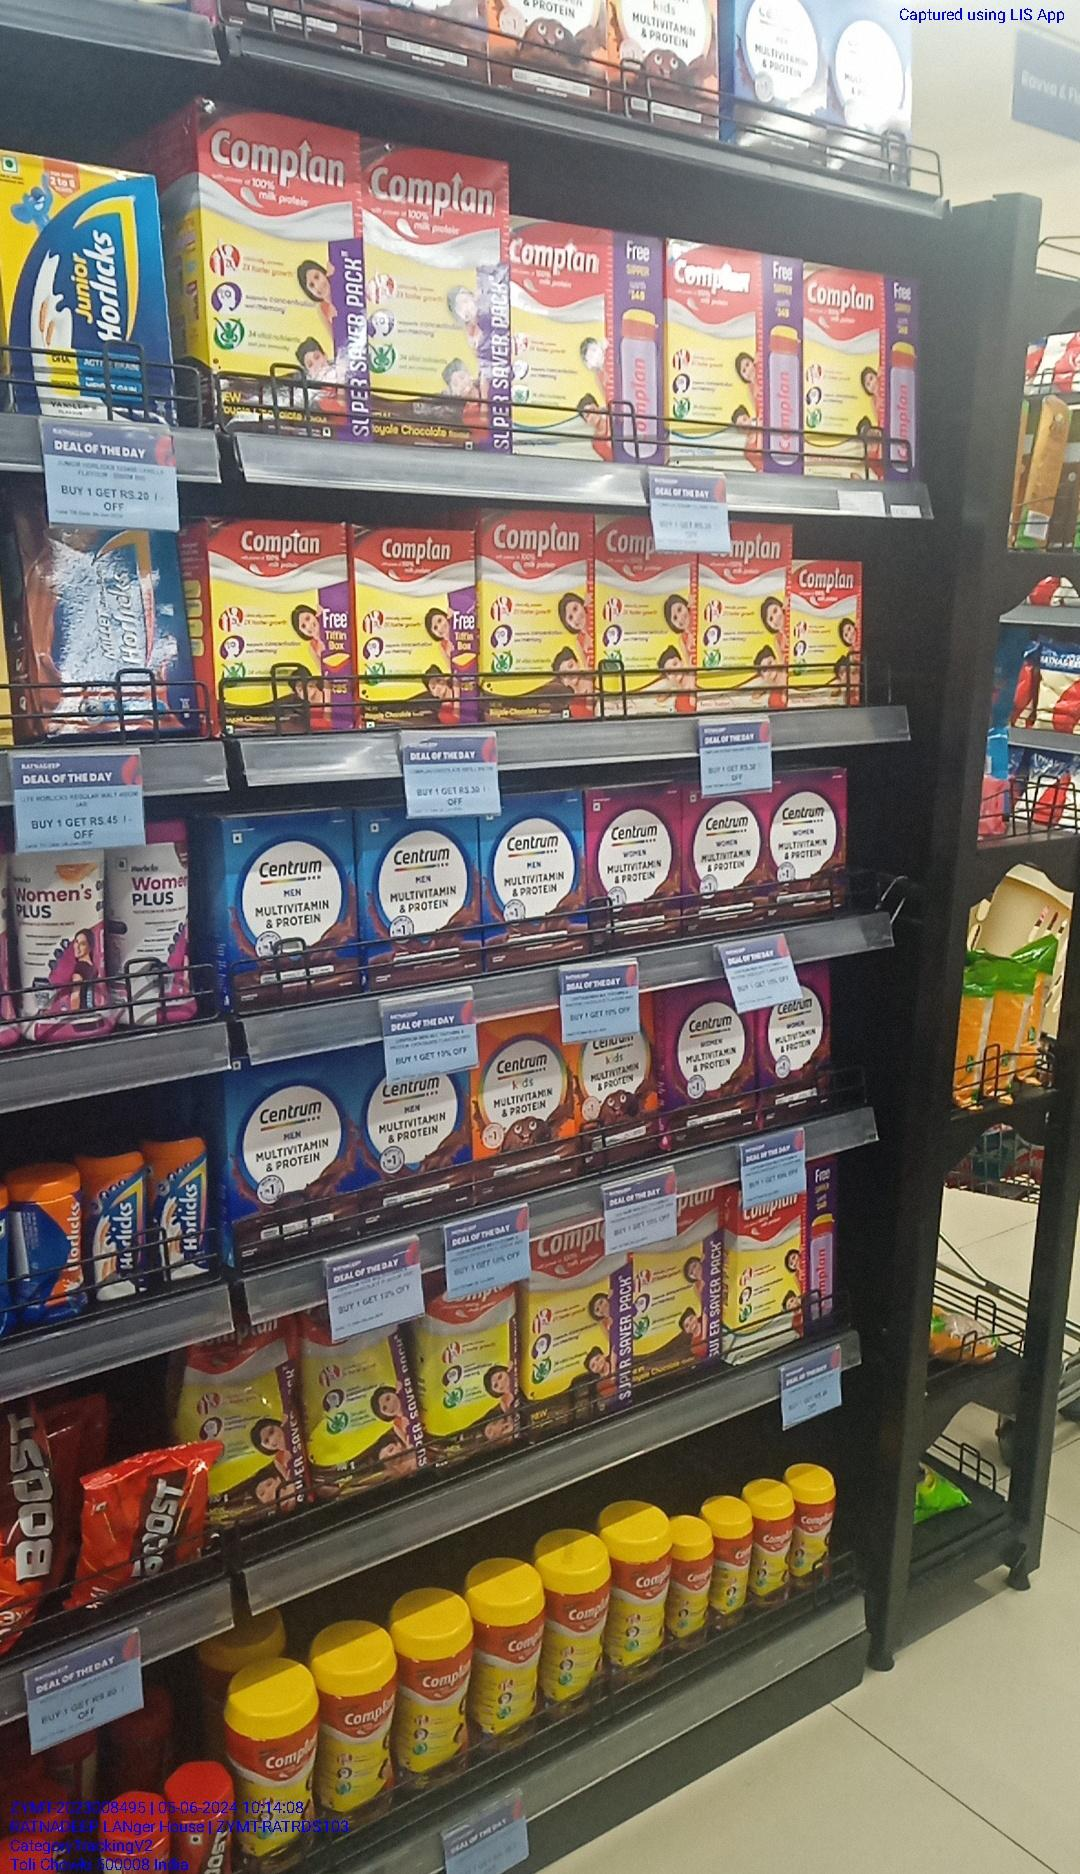COMPLAN_CHOCOLATE_200_GMS_JAR: (794, 1475, 837, 1588), (675, 1519, 712, 1641), (757, 1481, 790, 1606), (714, 1512, 752, 1619)
COMPLAN_CHOCOLATE_500_GMS_JAR: (236, 1662, 321, 1865), (326, 1628, 399, 1815), (543, 1541, 614, 1698), (408, 1609, 472, 1776), (476, 1574, 539, 1735), (623, 1517, 672, 1665)
COMPLAN_KESAR_BADAM_200_GMS_PACK: (787, 560, 861, 709)
